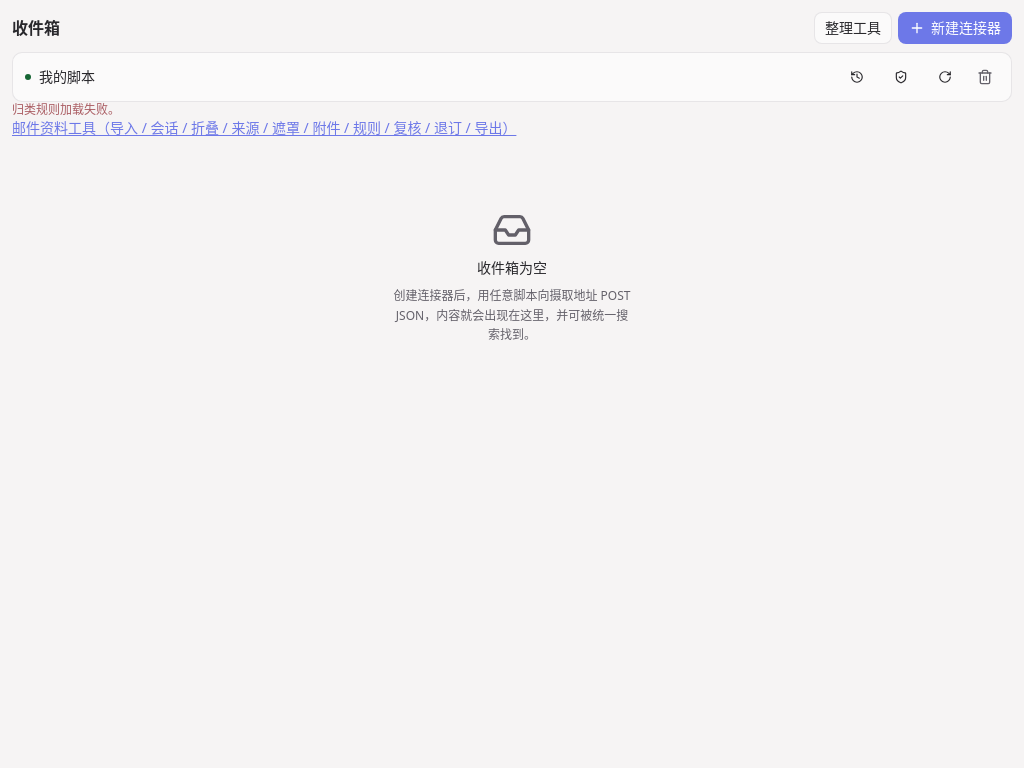
Test: F109 轮换凭据 › F109: 武装确认 → 轮换 → 一次性 secret + 旧令牌失效文案
Step 1. Click the button named "轮换凭据 我的脚本" → (945, 77), box [927, 61, 963, 93]
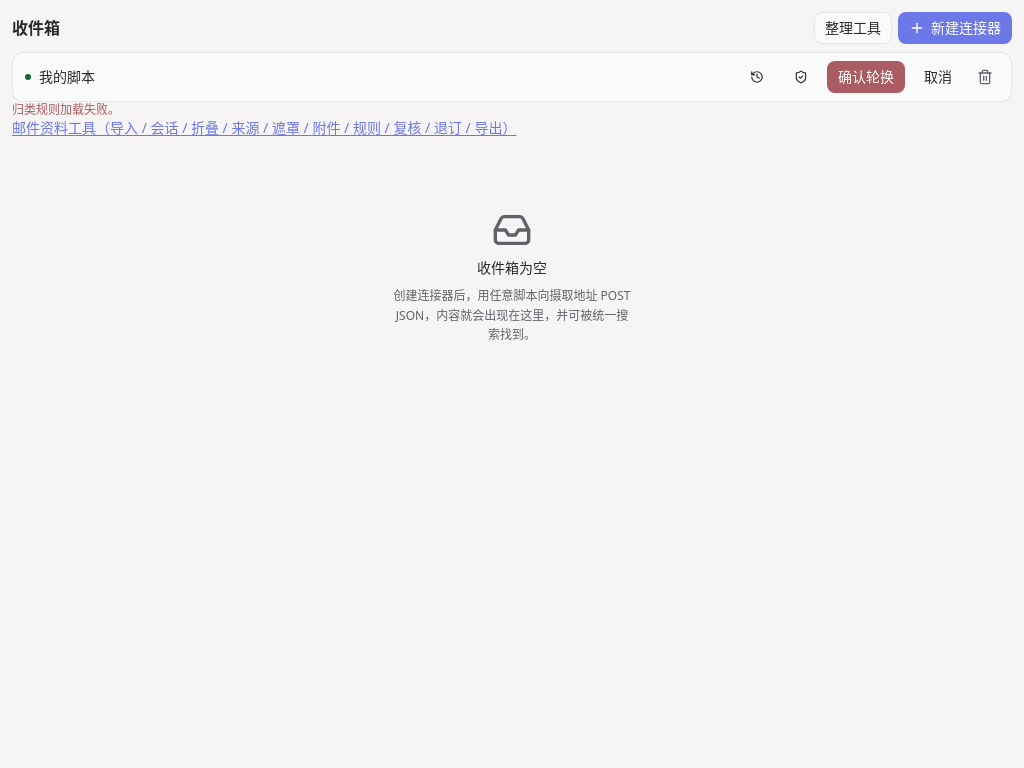
Note: 武装态：出现确认按钮；此时尚未调用
Step 2. Click the button "确认轮换" → (866, 77), box [827, 61, 905, 93]
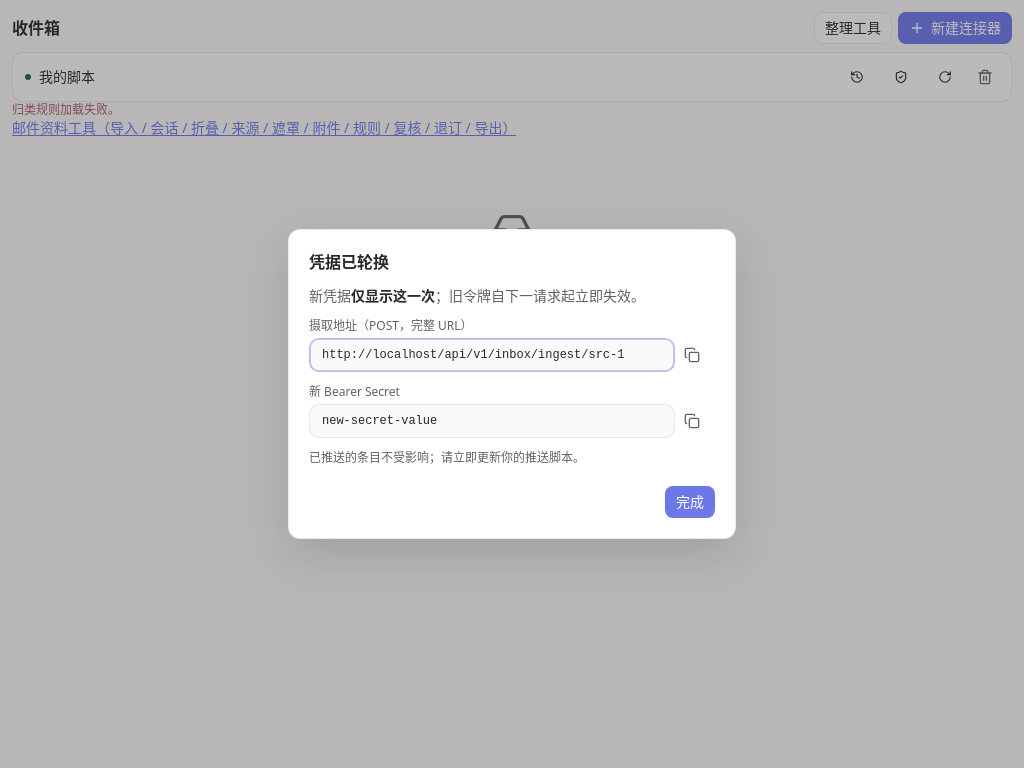
Result: the element that starts with "新凭据" is shown at [309, 286, 705, 466]
Result: the field labelled "新 Bearer Secret" holds "new-secret-value" at [309, 404, 675, 438]
Result: the element that starts with "新凭据" shows "旧令牌自下一请求起立即失效" at [435, 286, 645, 305]
